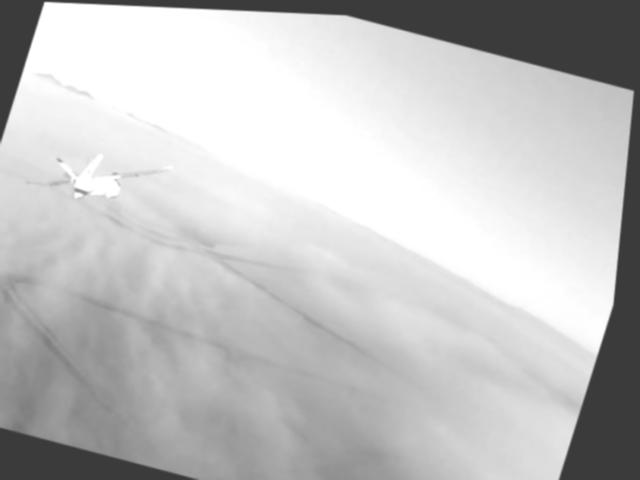hedef: (18, 124, 183, 232)
